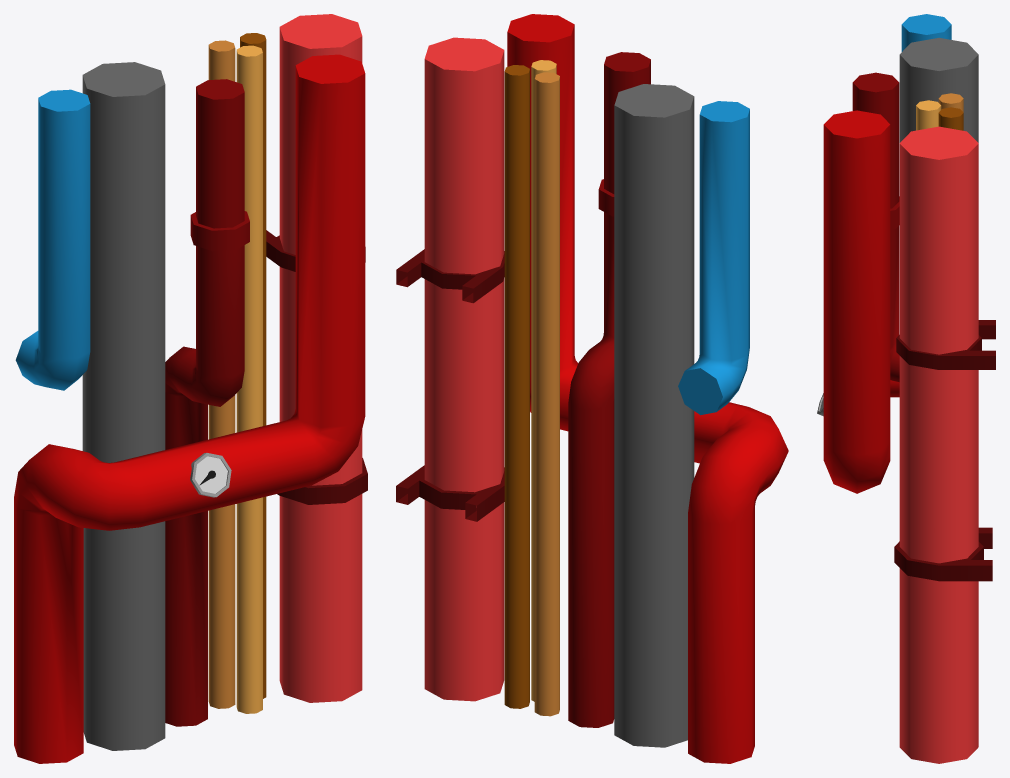
File: WallOfPipes.fbx
3 views of the same model, side by side, from view 1: azimuth 30°, elevation 25°; view 2: azimuth 150°, elevation 25°; view 3: azimuth 270°, elevation 25° (orthographic). The views are drawn at different scales.
Parts seen in each view (by area): view 1: WallOfPipes; view 2: WallOfPipes; view 3: WallOfPipes.
Part boxes in pixels (x1,y1,x2,y2): WallOfPipes: [14, 14, 367, 763]; WallOfPipes: [396, 14, 788, 763]; WallOfPipes: [817, 14, 995, 763].
Bounding box in the file's own units: 1827 × 3349 × 895.
